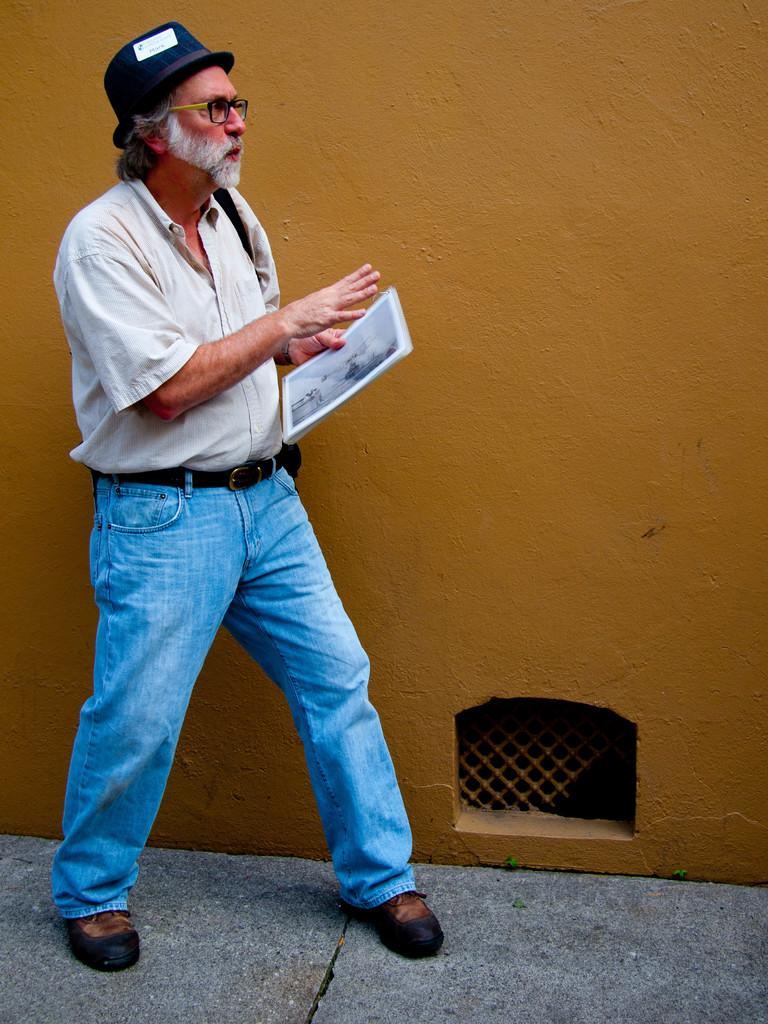Hat: (106, 18, 234, 153)
